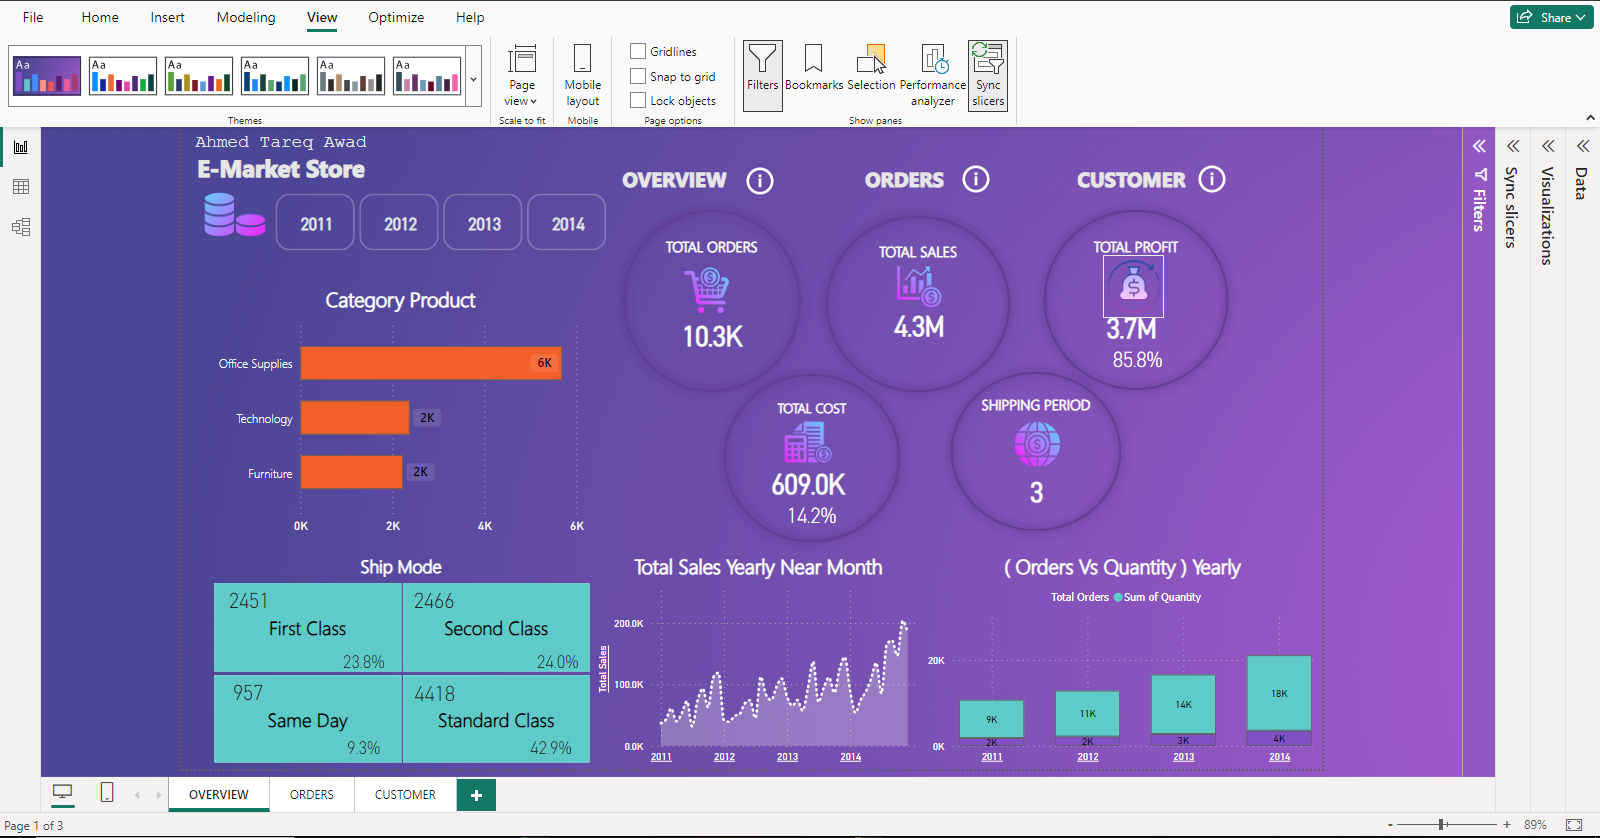

The page's visual inventory and layout, read from the dashboard file:
{"tool":"powerbi","page":{"name":"OVERVIEW","canvas":[1280,720],"ordinal":1},"visuals":[{"type":"shape","box":[483.8,81.2,223.8,228.8],"z":0},{"type":"shape","box":[711,87.5,231,222.1],"z":1000},{"type":"shape","box":[955,81.2,231.2,226.2],"z":2000},{"type":"columnChart","title":"( Orders Vs Quantity ) Yearly","fields":{"Y":["Orders.Total-orders","Sum(Orders.Quantity)"],"Category":["Orders.Order Date.Variation.Date Hierarchy.Year","Orders.Order Date.Variation.Date Hierarchy.Quarter","Orders.Order Date.Variation.Date Hierarchy.Month","Orders.Order Date.Variation.Date Hierarchy.Day"]},"box":[832.1,477.8,447.5,242.2],"z":3000},{"type":"shape","box":[851.2,262.4,215.3,203],"z":4000},{"type":"shape","box":[596.6,264.7,222.1,213.1],"z":5000},{"type":"actionButton","box":[443,29.2,220.9,58.3],"z":6000},{"type":"actionButton","box":[700.9,29.2,220.9,58.3],"z":7000},{"type":"actionButton","box":[955.5,29.2,220.9,58.3],"z":8000},{"type":"actionButton","box":[0,2.2,224.3,85.2],"z":9000},{"type":"slicer","title":" Ship Mode ","fields":{"Values":["Orders.Ship Mode"]},"box":[11.2,477.8,471,242.2],"z":10000},{"type":"card","fields":{"Values":["Orders.Total-orders"]},"box":[535,208.8,121.2,46.2],"z":11000},{"type":"card","fields":{"Values":["Sum(Orders.Sales)"]},"box":[763.8,188.8,128.8,66.2],"z":12000},{"type":"card","fields":{"Values":["All Maseure.Total Profit"]},"box":[1005,195,122.5,56.2],"z":13000},{"type":"card","fields":{"Values":["Orders.AVG Period Day"]},"box":[898.8,387.5,122.5,38.8],"z":14000},{"type":"card","fields":{"Values":["Sum(Orders.Shipping Cost)"]},"box":[642.5,376.2,121.2,45],"z":15000},{"type":"image","box":[775,148,105.4,61.7],"z":16000},{"type":"image","box":[1033.8,143.8,68.8,70],"z":17000},{"type":"image","box":[533.8,151.2,111.2,62.5],"z":18000},{"type":"image","box":[921.9,324.1,77.4,62.8],"z":19000},{"type":"image","box":[663.8,321.2,78.8,65],"z":20000},{"type":"image","box":[19.1,58.3,81.9,78.5],"z":21000},{"type":"actionButton","box":[1136.1,38.1,99.8,40.4],"z":22000},{"type":"card","fields":{"Values":["All Maseure.% Total Profit"]},"box":[1033.8,232.5,77.5,56.2],"z":23000},{"type":"card","fields":{"Values":["All Maseure.% Shipping cost"]},"box":[668.8,407.5,77.5,56.2],"z":24000},{"type":"card","fields":{"Values":["All Maseure.First Class"]},"box":[38.1,510.3,76.3,39.3],"z":25000},{"type":"card","fields":{"Values":["All Maseure.% First Class"]},"box":[163.8,583.8,82.5,30],"z":26000},{"type":"card","fields":{"Values":["All Maseure.Second Class"]},"box":[249,510.3,69.5,39.3],"z":27000},{"type":"card","fields":{"Values":["All Maseure.Same Day"]},"box":[36.2,613.8,78.8,40],"z":28000},{"type":"card","fields":{"Values":["All Maseure.Standard Class"]},"box":[249,614.6,70.7,40.4],"z":29000},{"type":"card","fields":{"Values":["All Maseure.% Second Class"]},"box":[381.2,583.8,82.5,30],"z":30000},{"type":"card","fields":{"Values":["All Maseure.% Same Day"]},"box":[163.8,681.2,82.5,30],"z":31000},{"type":"card","fields":{"Values":["All Maseure.% Standard Class"]},"box":[373.5,680.7,83,30.3],"z":32000},{"type":"barChart","title":"Category Product","fields":{"Y":["Orders.Total-orders"],"Category":["Orders.Category"]},"box":[35.9,178.3,420.6,283.7],"z":33000},{"type":"stackedAreaChart","title":"Total Sales Yearly Near Month ","fields":{"Y":["All Maseure.Total Sales"],"Category":["Orders.Order Date.Variation.Date Hierarchy.Year","Orders.Order Date.Variation.Date Hierarchy.Month"]},"box":[463.2,477.8,369,242.2],"z":34000},{"type":"advancedSlicerVisual","fields":{"Values":["Orders.Order Date.Variation.Date Hierarchy.Year"]},"box":[100.9,69.5,381.3,74],"z":35000},{"type":"actionButton","box":[871.4,38.1,99.8,40.4],"z":36000},{"type":"actionButton","box":[629.2,40.4,99.8,40.4],"z":37000},{"type":"actionButton","box":[0,0,224,33.9],"z":38000}]}

Visuals, with their boxes on the page's 1280x720 design canvas (x1, y1, x2, y2). These are canvas units, not pixel positions in the 1600x838 screenshot, which may show the page scaled, cropped or inside an application window:
shape: 484/81/708/310
shape: 711/88/942/310
shape: 955/81/1186/307
"( Orders Vs Quantity ) Yearly" columnChart: 832/478/1280/720
shape: 851/262/1066/465
shape: 597/265/819/478
actionButton: 443/29/664/88
actionButton: 701/29/922/88
actionButton: 956/29/1176/88
actionButton: 0/2/224/87
" Ship Mode " slicer: 11/478/482/720
card - Orders.Total-orders: 535/209/656/255
card - Sum(Orders.Sales): 764/189/893/255
card - All Maseure.Total Profit: 1005/195/1128/251
card - Orders.AVG Period Day: 899/388/1021/426
card - Sum(Orders.Shipping Cost): 642/376/764/421
image: 775/148/880/210
image: 1034/144/1103/214
image: 534/151/645/214
image: 922/324/999/387
image: 664/321/743/386
image: 19/58/101/137
actionButton: 1136/38/1236/78
card - All Maseure.% Total Profit: 1034/232/1111/289
card - All Maseure.% Shipping cost: 669/408/746/464
card - All Maseure.First Class: 38/510/114/550
card - All Maseure.% First Class: 164/584/246/614
card - All Maseure.Second Class: 249/510/318/550
card - All Maseure.Same Day: 36/614/115/654
card - All Maseure.Standard Class: 249/615/320/655
card - All Maseure.% Second Class: 381/584/464/614
card - All Maseure.% Same Day: 164/681/246/711
card - All Maseure.% Standard Class: 374/681/456/711
"Category Product" barChart: 36/178/456/462
"Total Sales Yearly Near Month " stackedAreaChart: 463/478/832/720
advancedSlicerVisual - Orders.Order Date.Variation.Date Hierarchy.Year: 101/70/482/144
actionButton: 871/38/971/78
actionButton: 629/40/729/81
actionButton: 0/0/224/34
